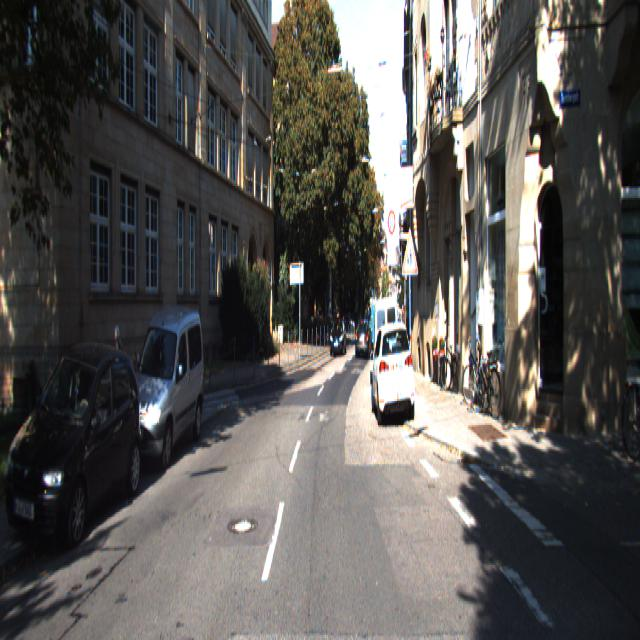Car: (2, 336, 148, 562), (117, 300, 205, 480), (370, 317, 416, 431), (371, 294, 400, 409), (330, 318, 348, 359), (356, 316, 372, 360)
